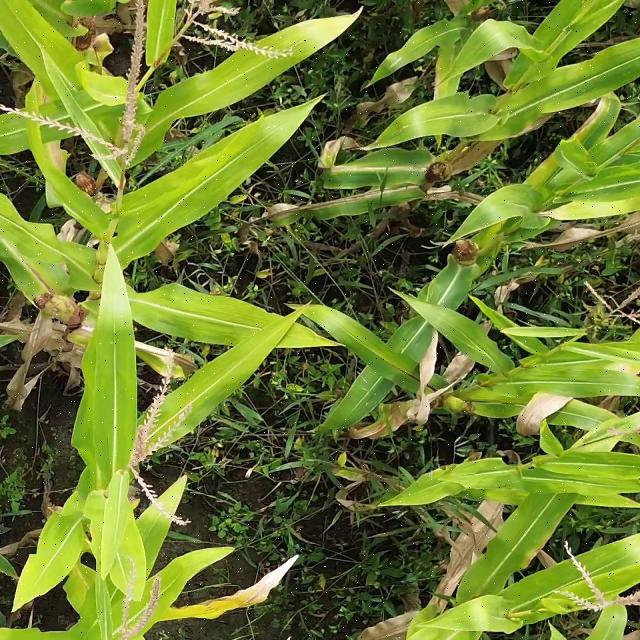northern-leaf-blight: (140, 565, 292, 633), (10, 225, 92, 328)
